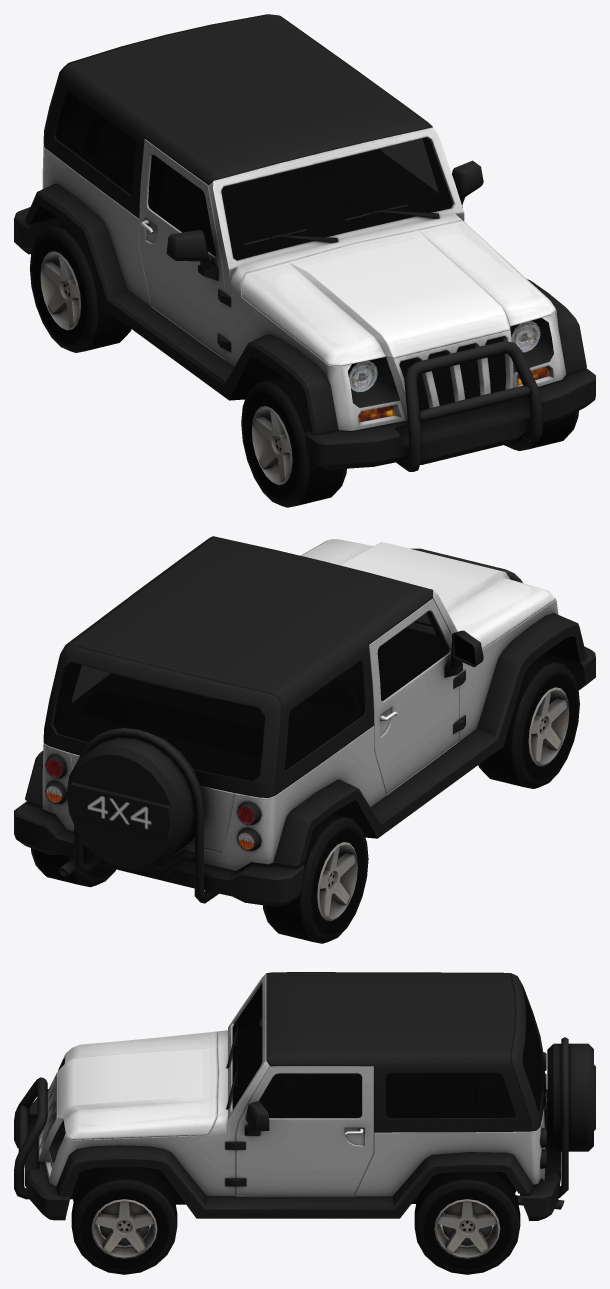
Rendered from muscle.glb.
3 views of the same model, one above another, from view 1: azimuth 30°, elevation 25°; view 2: azimuth 150°, elevation 25°; view 3: azimuth 270°, elevation 25° (orthographic). The views are drawn at different scales.
Parts seen in each view (by area): view 1: Offroad Body_Body_0, Offroad Body_Glass_0, Door skin and glass (×4), TyreRim (×3), Lamp head; view 2: Offroad Body_Body_0, Offroad Body_Glass_0, TyreRim (×3), Door skin and glass (×2), Lamp brake; view 3: Offroad Body_Body_0, Door skin and glass (×3), TyreRim (×2), Offroad Body_Glass_0.
Boxes of the visible parts, <box> form: Offroad Body_Body_0: <box>14,14,595,471</box>; Offroad Body_Glass_0: <box>55,91,452,260</box>; Door skin and glass (×4): <box>139,138,483,395</box>; TyreRim (×3): <box>30,223,578,507</box>; Lamp head: <box>349,321,548,422</box>; Offroad Body_Body_0: <box>14,536,595,906</box>; Offroad Body_Glass_0: <box>53,613,435,780</box>; TyreRim (×3): <box>31,658,579,943</box>; Door skin and glass (×2): <box>377,599,497,812</box>; Lamp brake: <box>45,759,254,850</box>; Offroad Body_Body_0: <box>14,972,595,1220</box>; Door skin and glass (×3): <box>206,985,361,1218</box>; TyreRim (×2): <box>71,1167,520,1274</box>; Offroad Body_Glass_0: <box>232,984,542,1118</box>.
Bounding box in the file's own units: 2.24 × 1.79 × 4.5.
Materials: 6 (4 with a texture image).
